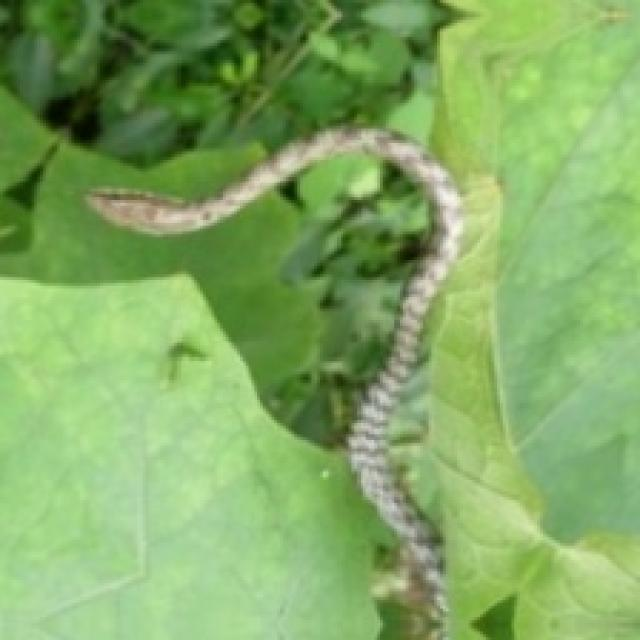philippine whip snake: (86, 126, 460, 637)
